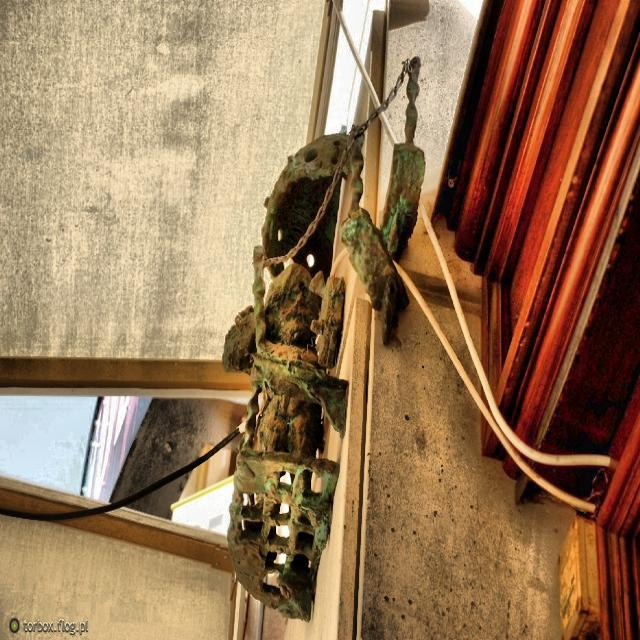Dryndek: (222, 134, 348, 619)
